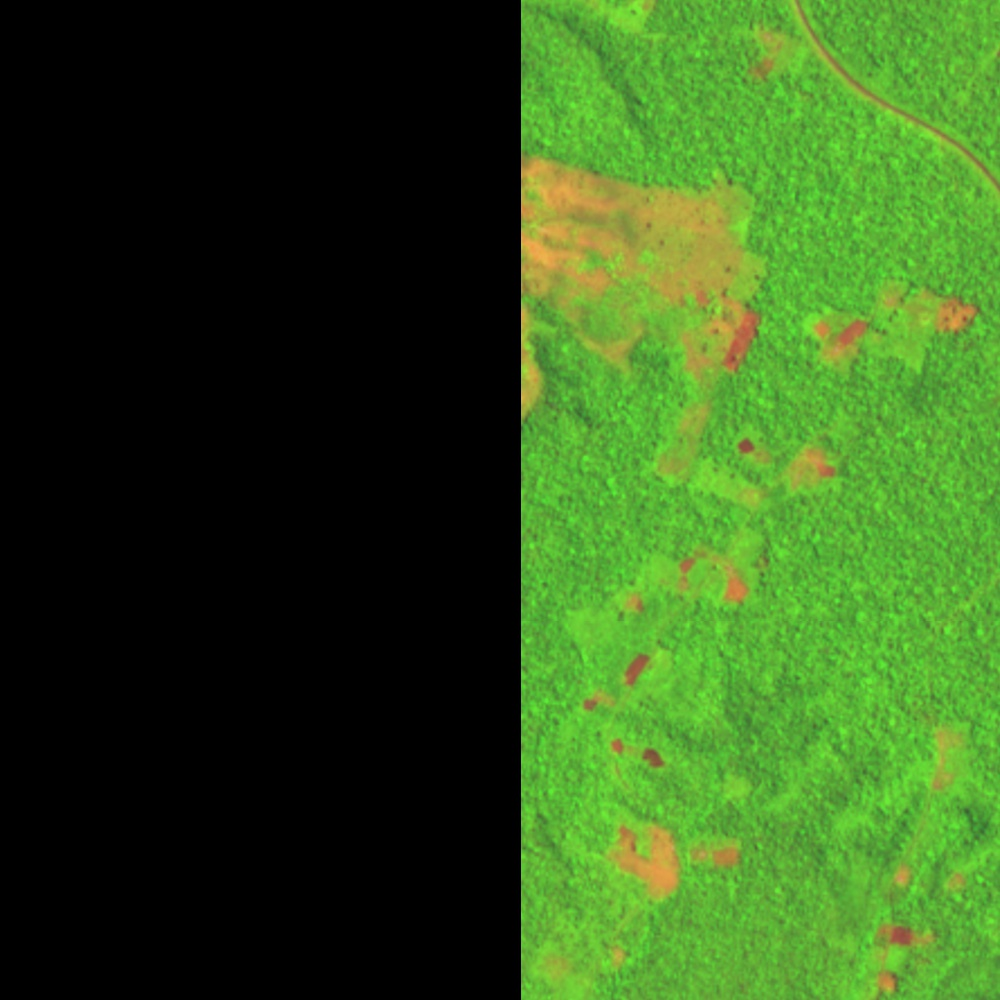legal: (520, 154, 773, 377), (865, 721, 971, 1000), (605, 534, 762, 627), (816, 282, 984, 361), (696, 435, 846, 515), (604, 821, 747, 899), (568, 644, 668, 719), (606, 735, 679, 780), (742, 27, 790, 85)
